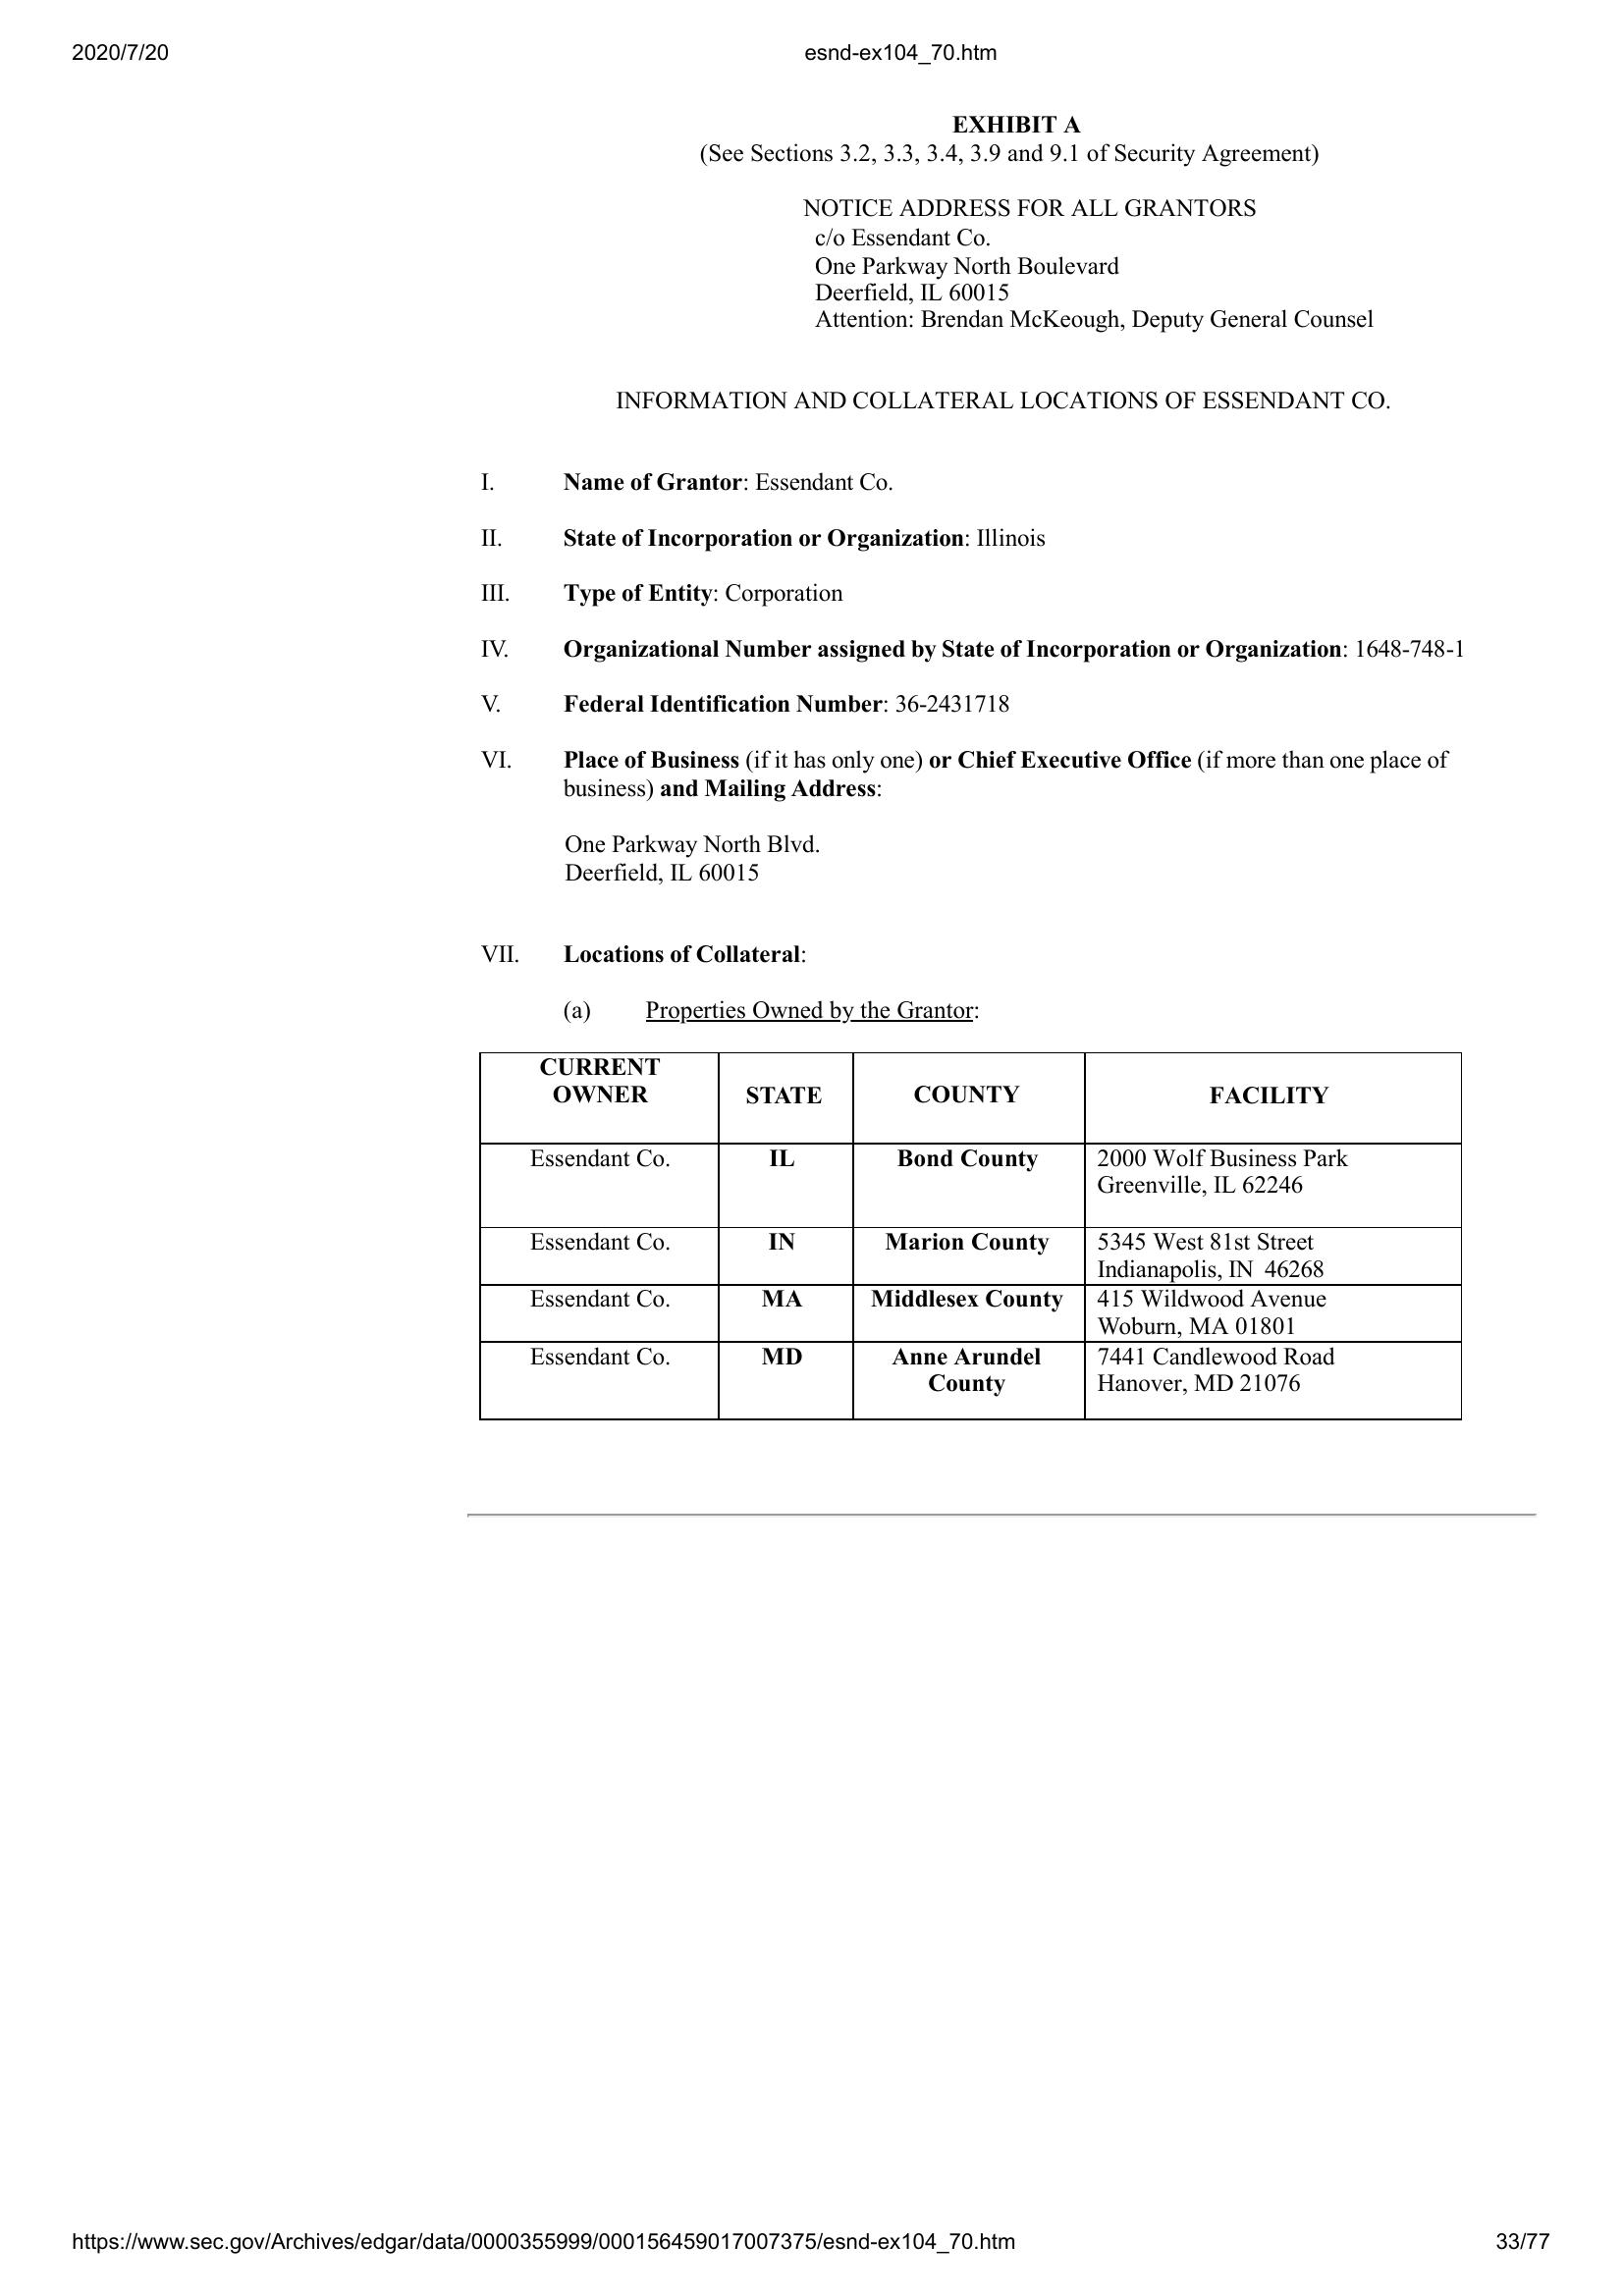table: (472, 1046, 1470, 1427)
